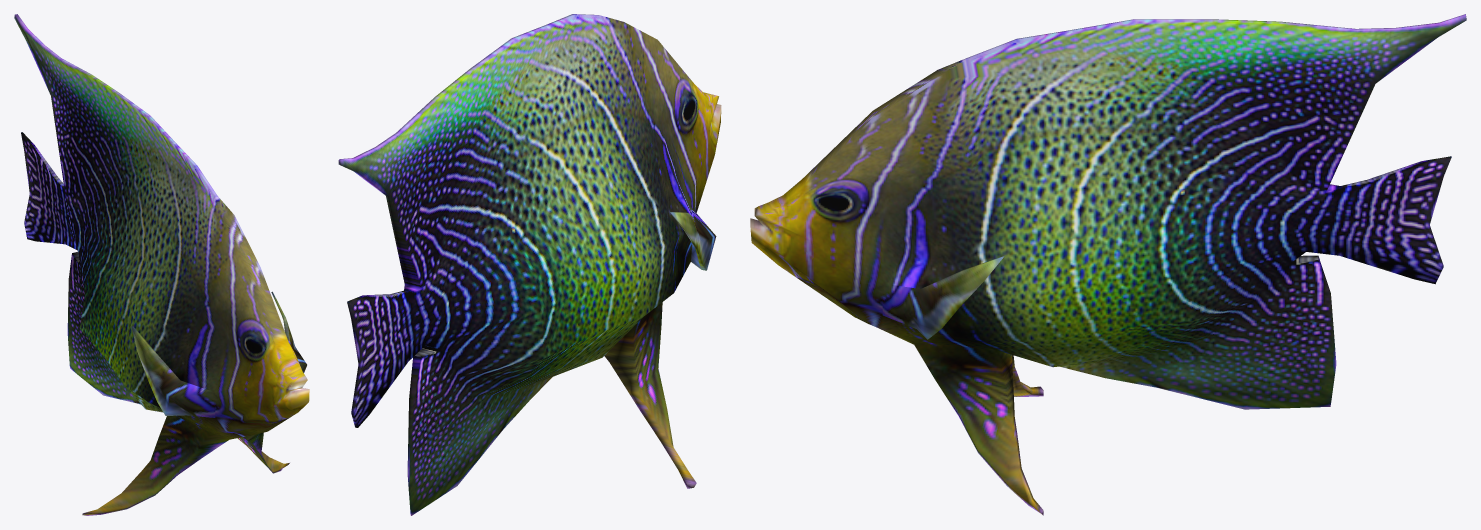
File: fish15.glb
The picture shows the model from 3 angles, left to right: view 1: azimuth 30°, elevation 25°; view 2: azimuth 150°, elevation 25°; view 3: azimuth 270°, elevation 25°; orthographic projection. The views are drawn at different scales.
Parts seen in each view (by area): view 1: Asset3DLoader.sceneRoot; view 2: Asset3DLoader.sceneRoot; view 3: Asset3DLoader.sceneRoot.
Part boxes in pixels (<box>): Asset3DLoader.sceneRoot: <box>14,14,309,515</box>; Asset3DLoader.sceneRoot: <box>338,14,721,515</box>; Asset3DLoader.sceneRoot: <box>750,14,1466,515</box>.
Bounding box in the file's own units: 191 × 311 × 458.
1 material, 1 textured.
